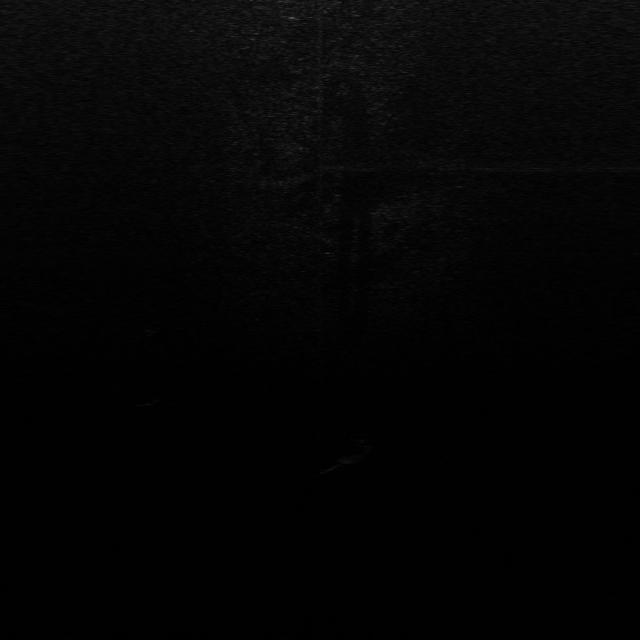circle cage: (157, 383, 186, 402)
tyre: (340, 436, 370, 466), (143, 318, 166, 336)
